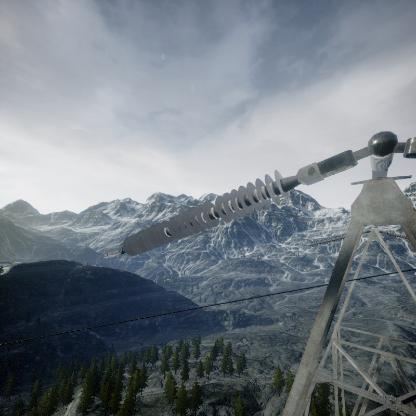insulator: (104, 168, 303, 257)
